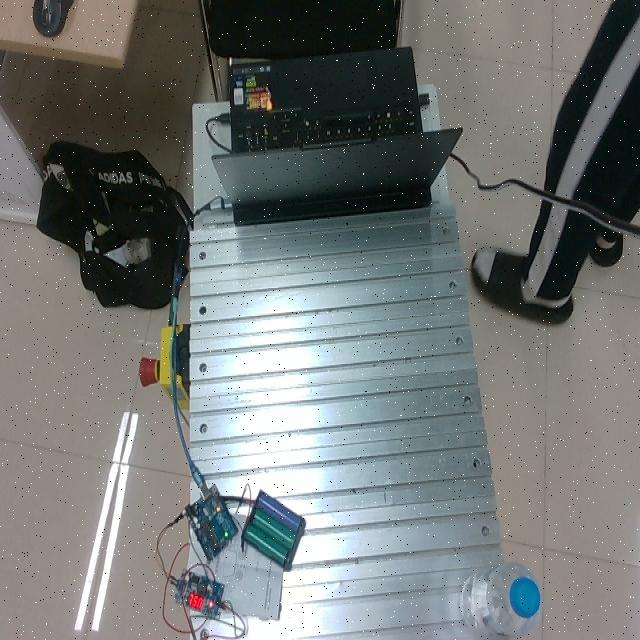lavie: (459, 562, 543, 638)
